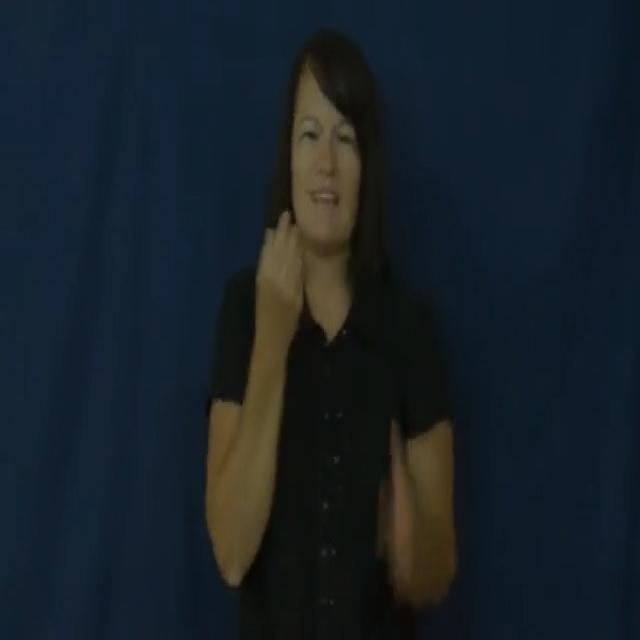hot: (197, 210, 460, 609)
